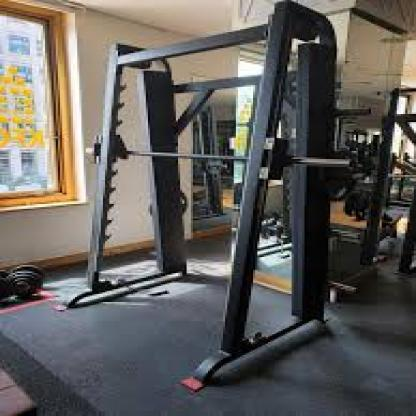smith machine: (91, 1, 360, 394)
